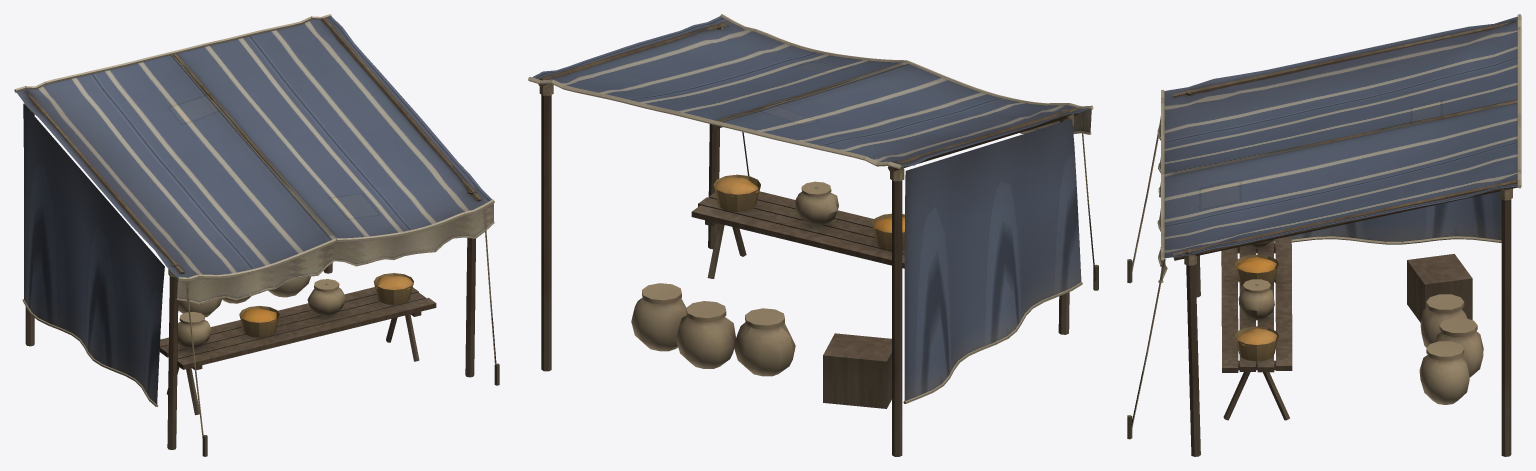
Rendered from vc_tent_c.glb.
3 renders of one model, left to right at view 1: azimuth 30°, elevation 25°; view 2: azimuth 150°, elevation 25°; view 3: azimuth 270°, elevation 25°, orthographic. The views are drawn at different scales.
Visible parts, largest first — view 1: vc_tent_c; view 2: vc_tent_c; view 3: vc_tent_c.
Boxes of the visible parts, bbox=[...] form: vc_tent_c: bbox=[14, 14, 499, 456]; vc_tent_c: bbox=[528, 14, 1098, 456]; vc_tent_c: bbox=[1127, 14, 1521, 456].
Bounding box in the file's own units: 3.69 × 2.76 × 3.56.
1 material, 1 textured.
